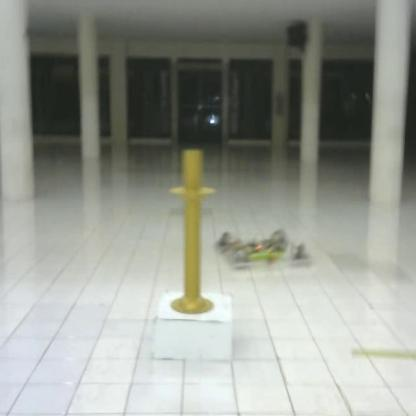pole: (165, 146, 223, 320)
